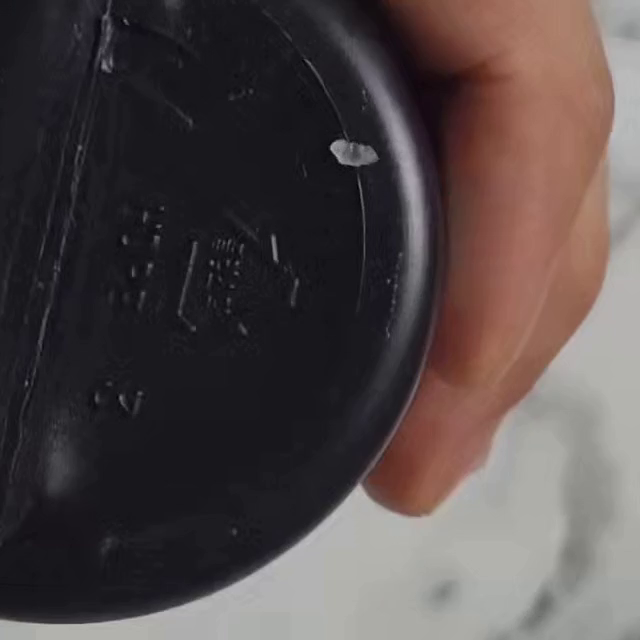Plastic: (164, 209, 305, 340)
